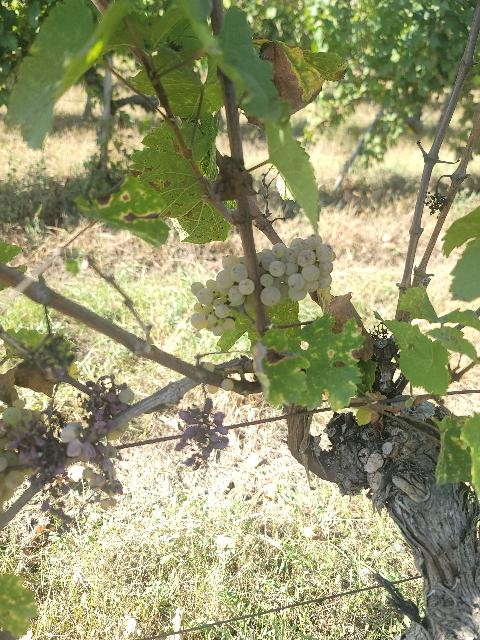grapes: (191, 232, 339, 336)
